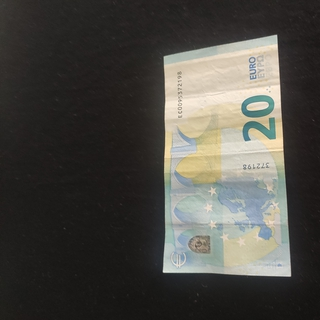20EUROBack: (162, 33, 291, 277)
